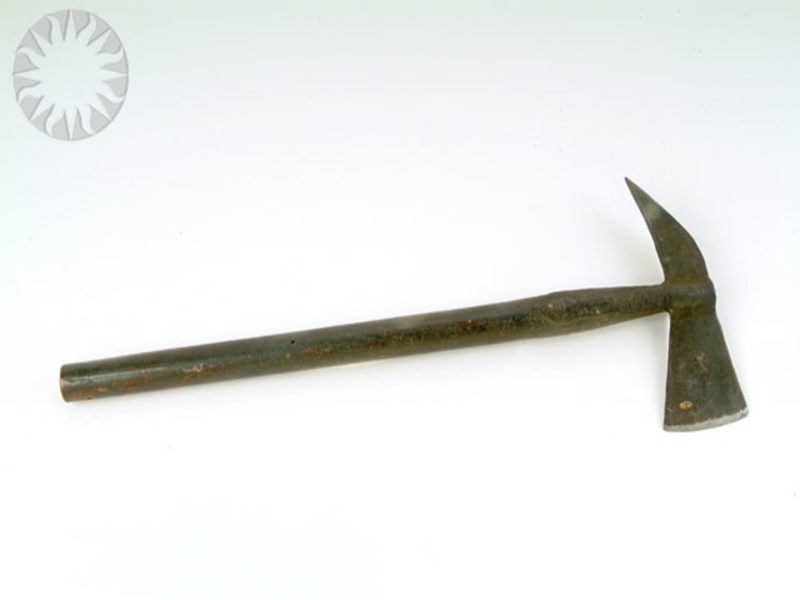axe: (574, 170, 769, 438)
